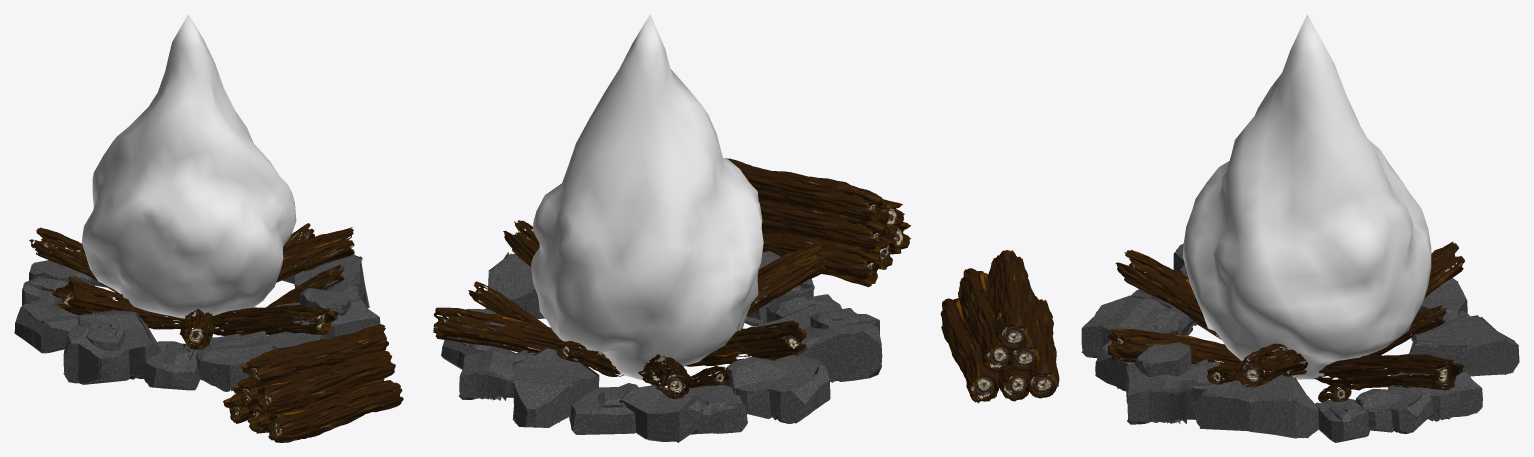
File: Campfire_LogPile.fbx
3 renders of one model, left to right at view 1: azimuth 30°, elevation 25°; view 2: azimuth 150°, elevation 25°; view 3: azimuth 270°, elevation 25°, orthographic. The views are drawn at different scales.
Parts seen in each view (by area): view 1: Low Poly Flame, Rock Variant 2.016, Log, Log.004, Log.005, Log.008, Log.006, Log.007, Log.010, Log.009, Log.012, Log.003 (+2 smaller); view 2: Low Poly Flame, Rock Variant 2.016, Log.005, Log.011, Log.003, Log.006, Log.002, Log.009, Log.010, Log.013, Log.014, Log.007 (+2 smaller); view 3: Low Poly Flame, Rock Variant 2.016, Log.011, Log.005, Log.004, Log.009, Log, Log.008, Log.007, Log.002, Log.010, Log.003 (+2 smaller).
Boxes of the visible parts, left/top/right/bottom form: Low Poly Flame: left=82, top=14, right=296, bottom=318; Rock Variant 2.016: left=14, top=240, right=380, bottom=391; Log: left=266, top=380, right=403, bottom=442; Log.004: left=256, top=350, right=395, bottom=413; Log.005: left=240, top=324, right=388, bottom=387; Log.008: left=207, top=305, right=339, bottom=335; Log.006: left=52, top=281, right=209, bottom=329; Log.007: left=276, top=227, right=354, bottom=282; Log.010: left=29, top=227, right=119, bottom=293; Log.009: left=179, top=309, right=215, bottom=349; Log.012: left=266, top=264, right=344, bottom=307; Log.003: left=232, top=370, right=312, bottom=407; Low Poly Flame: left=531, top=14, right=763, bottom=380; Rock Variant 2.016: left=441, top=251, right=882, bottom=442; Log.005: left=725, top=158, right=884, bottom=225; Log.011: left=433, top=307, right=595, bottom=367; Log.003: left=758, top=200, right=887, bottom=254; Log.006: left=685, top=320, right=806, bottom=366; Log.002: left=762, top=233, right=881, bottom=287; Log.009: left=747, top=241, right=826, bottom=315; Log.010: left=638, top=354, right=692, bottom=398; Log.013: left=468, top=281, right=547, bottom=326; Log.014: left=556, top=341, right=624, bottom=376; Log.007: left=503, top=220, right=539, bottom=266; Low Poly Flame: left=1183, top=14, right=1431, bottom=379; Rock Variant 2.016: left=1081, top=243, right=1519, bottom=442; Log.011: left=1314, top=354, right=1464, bottom=390; Log.005: left=987, top=250, right=1029, bottom=350; Log.004: left=958, top=268, right=1014, bottom=372; Log.009: left=1115, top=249, right=1221, bottom=339; Log: left=940, top=298, right=999, bottom=403; Log.008: left=1107, top=329, right=1245, bottom=378; Log.007: left=1234, top=343, right=1307, bottom=387; Log.002: left=1026, top=296, right=1059, bottom=398; Log.010: left=1424, top=241, right=1464, bottom=298; Log.003: left=1008, top=279, right=1039, bottom=371.
Bounding box in the file's own units: 174 × 163 × 240.
